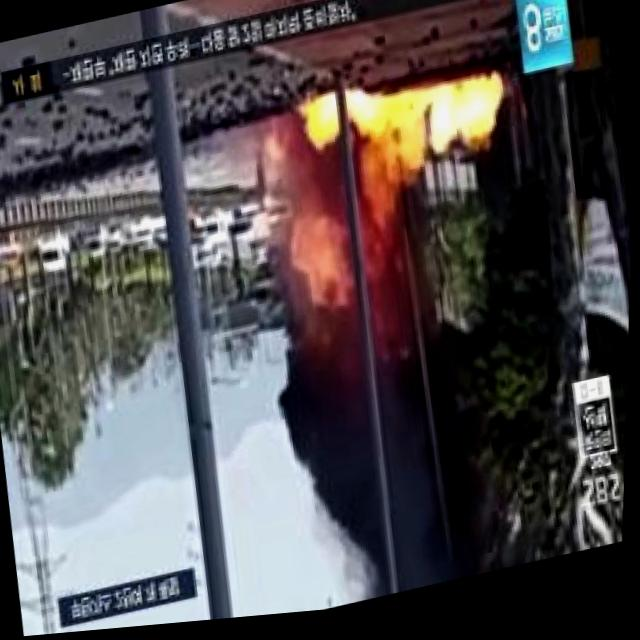Fire: (286, 55, 526, 213)
Smoke: (235, 123, 502, 614)
